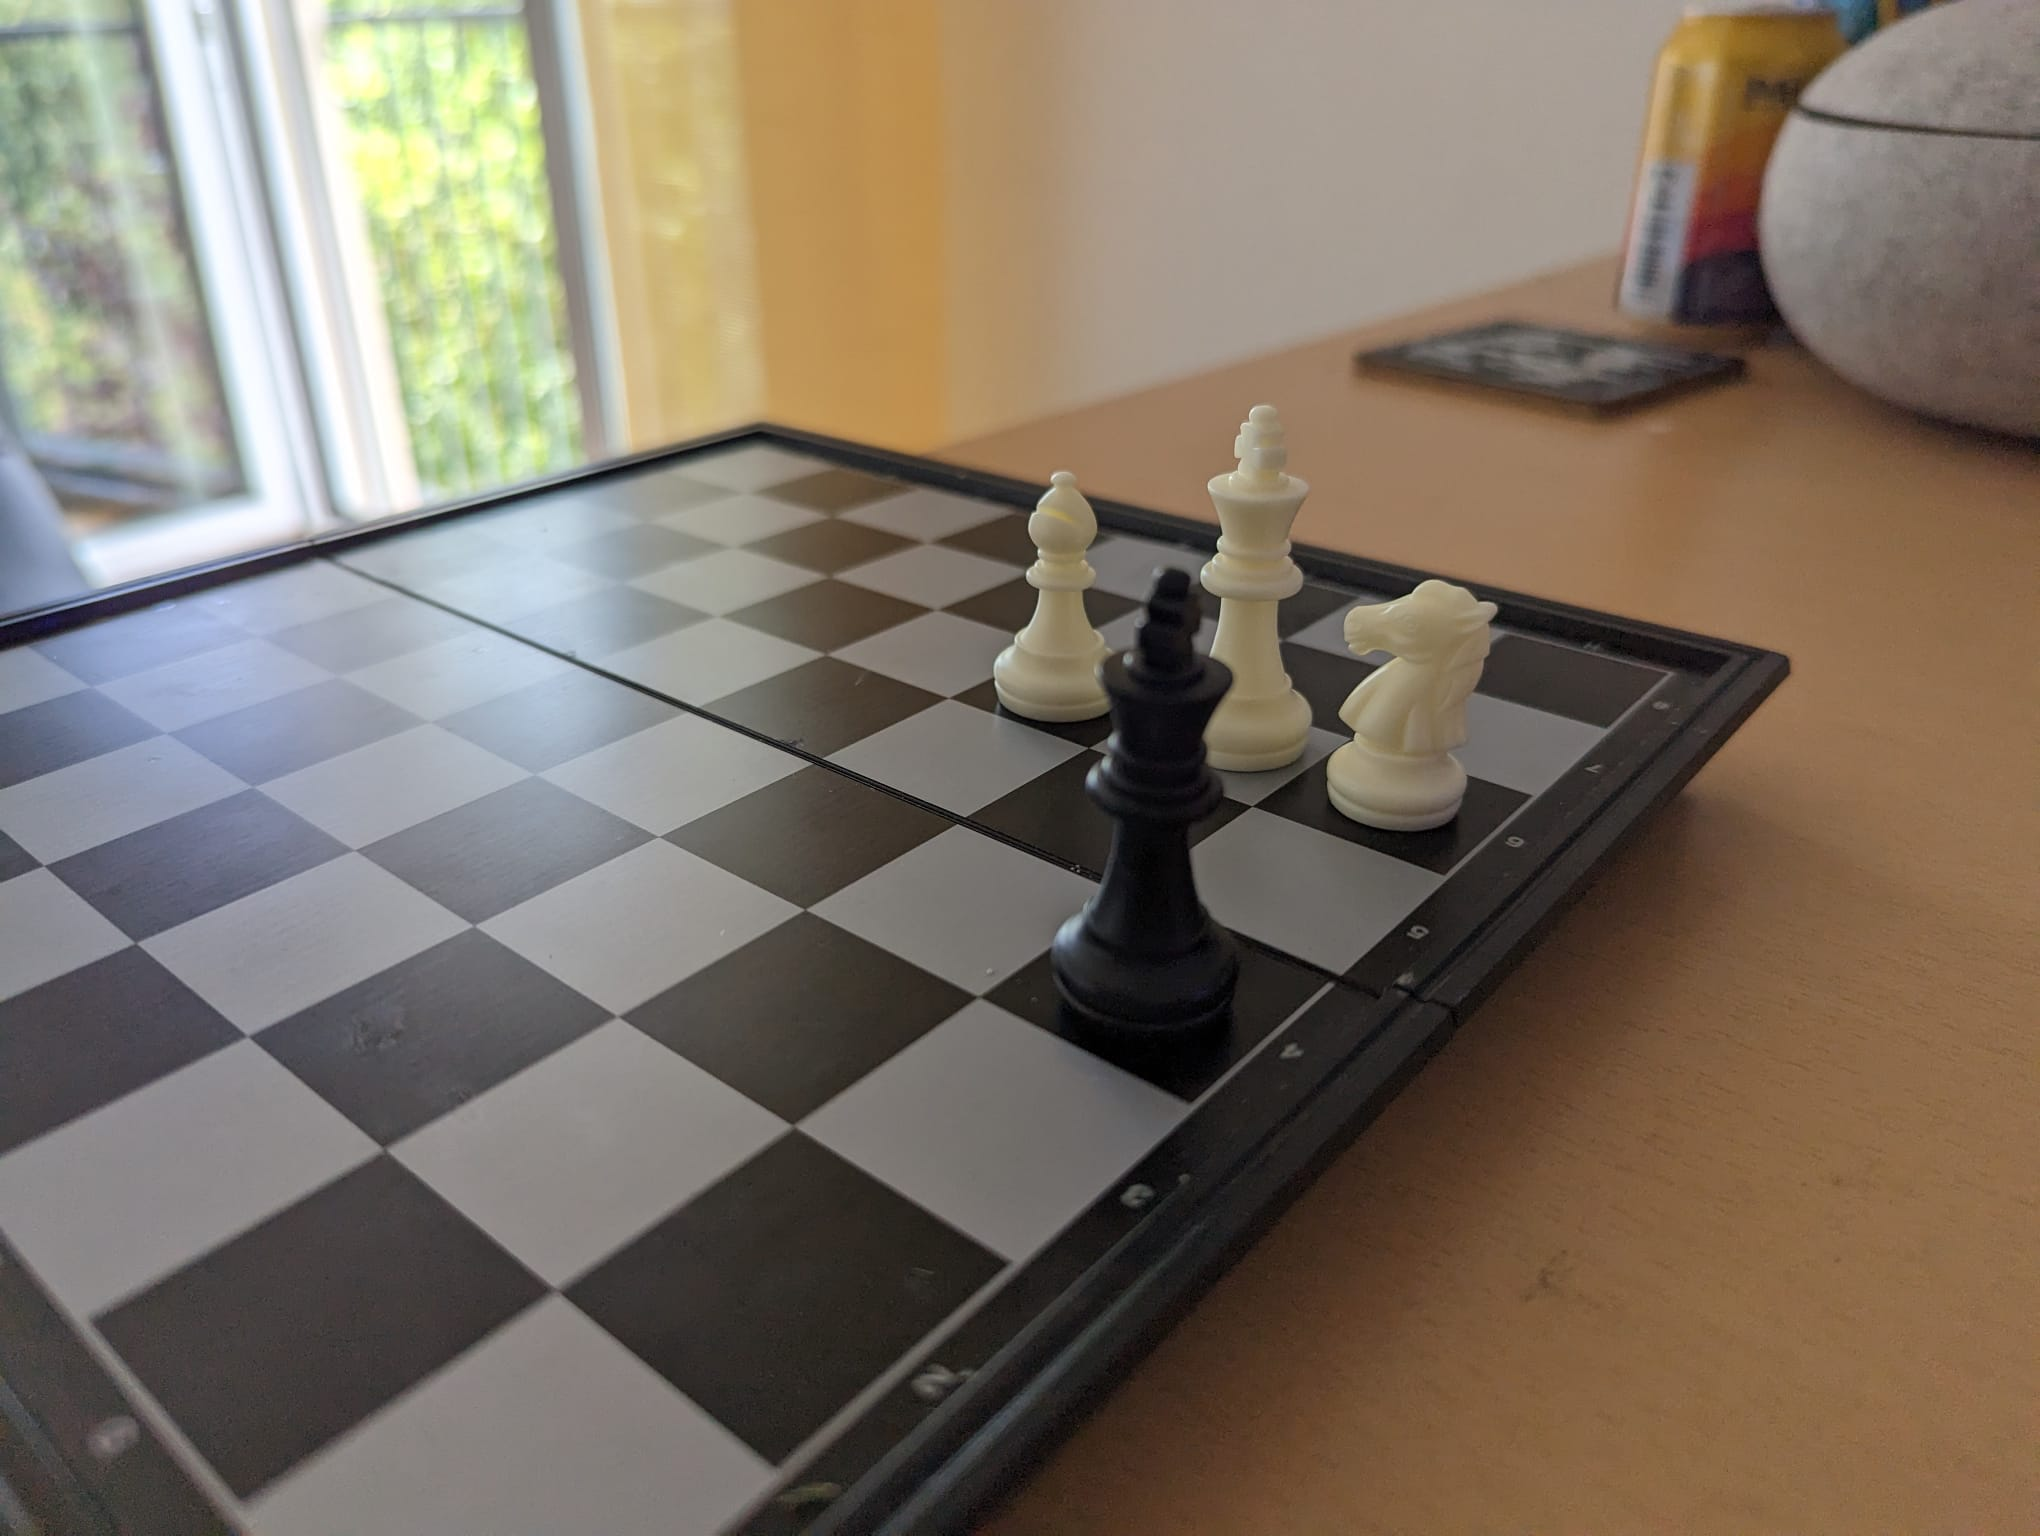BK: (1056, 561, 1259, 1039)
WB: (987, 460, 1118, 720)
WK: (1197, 400, 1318, 776)
WN: (1327, 576, 1500, 833)
